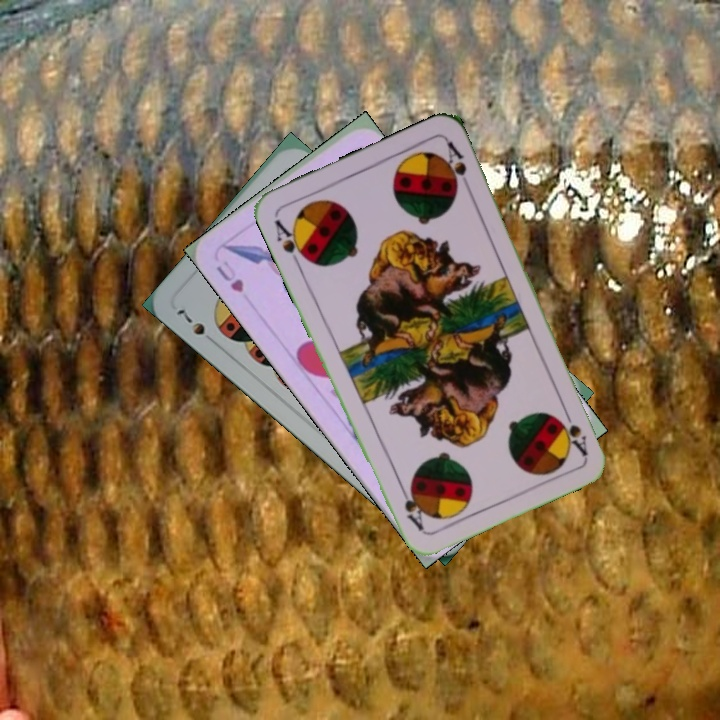HU: (212, 256, 247, 295)
S7: (172, 304, 220, 348)
SA: (270, 215, 311, 269), (558, 402, 591, 459)
